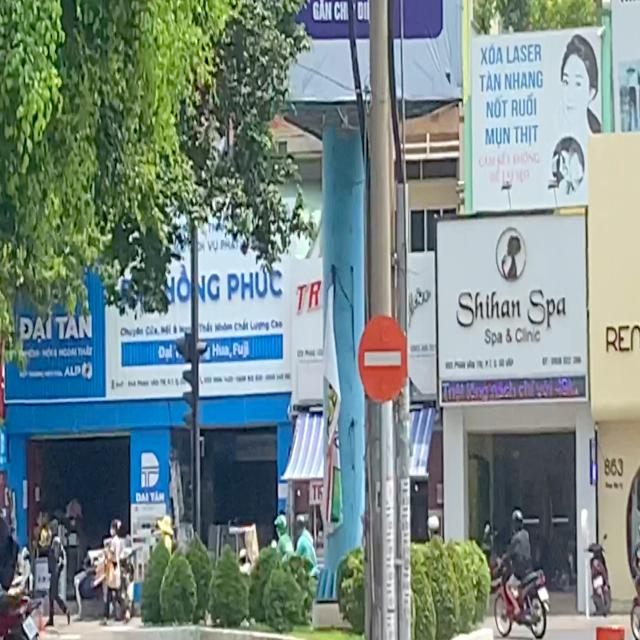Cam nguoc chieu: (357, 313, 408, 403)
